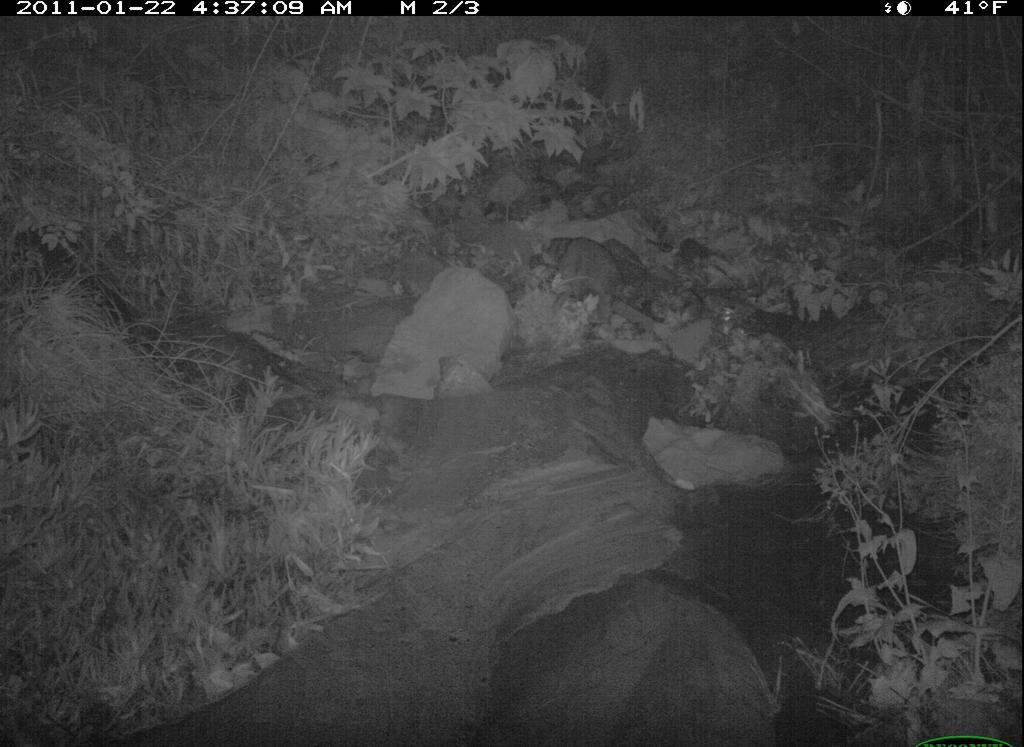raccoon: (541, 232, 640, 327)
